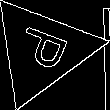P_E: (9, 24, 75, 78)
